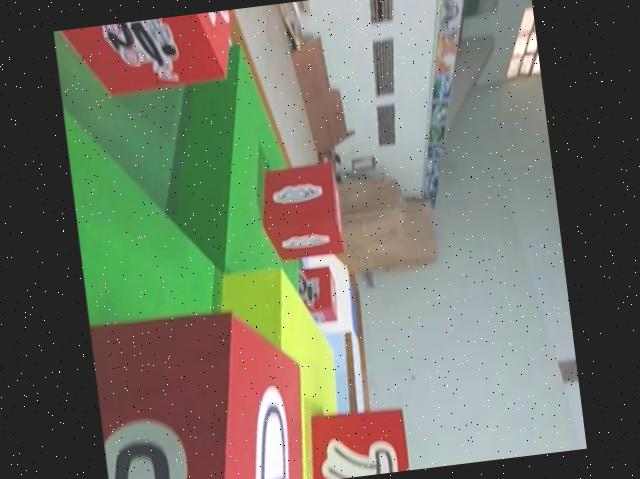R1: (53, 9, 245, 102), (289, 261, 343, 328)
R2 Fake: (88, 296, 312, 479), (299, 405, 411, 479)
R2 Real: (255, 159, 346, 262)
